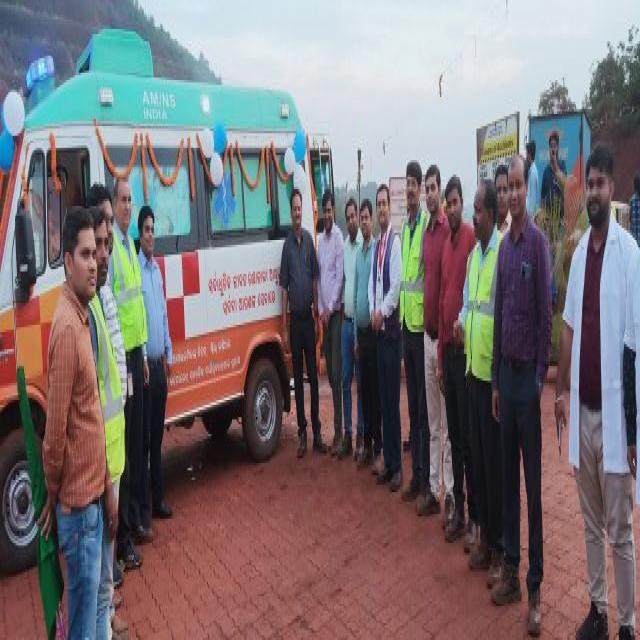emergency: (0, 30, 334, 568)
